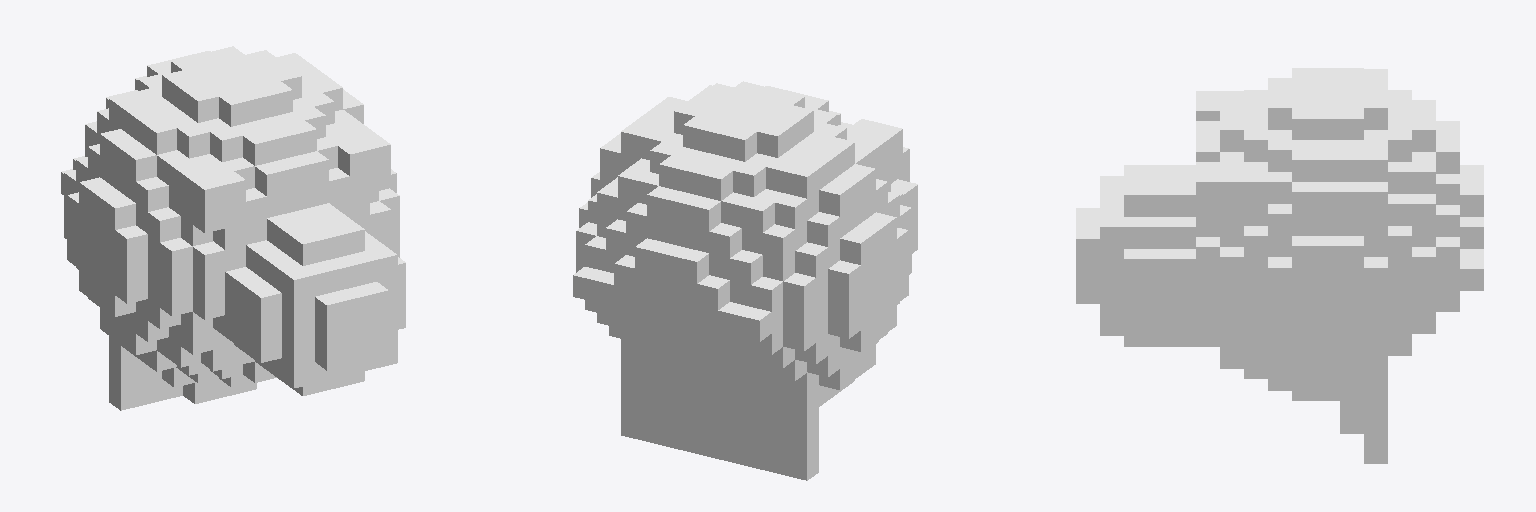
File: Centered_Corgi_Head.obj
3 views of the same model, side by side, from view 1: azimuth 30°, elevation 25°; view 2: azimuth 150°, elevation 25°; view 3: azimuth 270°, elevation 25° (orthographic).
Visible parts, largest first — view 1: Corgi_head; view 2: Corgi_head; view 3: Corgi_head.
Boxes of the visible parts, box(x1,y1,x2,y2) form: Corgi_head: box(61, 46, 405, 410); Corgi_head: box(573, 81, 917, 480); Corgi_head: box(1076, 68, 1483, 463).
Size of the model in its own units: 1.3 by 1.5 by 1.7.